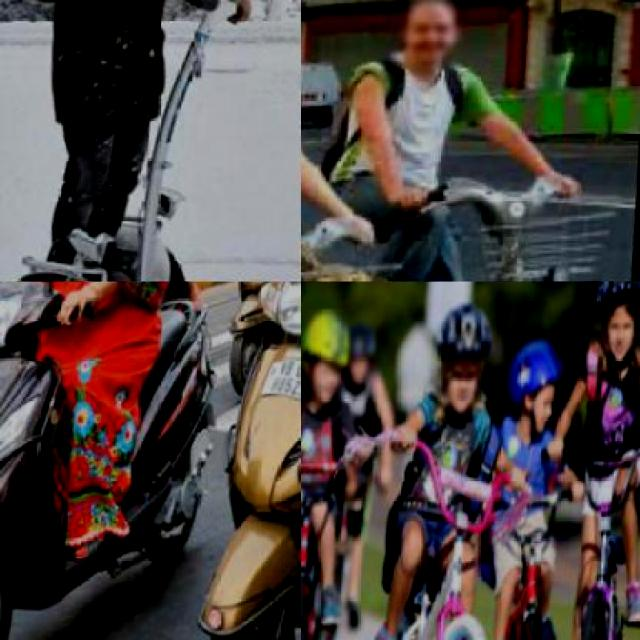With Helmet: (426, 287, 505, 419), (503, 327, 574, 439), (300, 303, 358, 412), (588, 282, 638, 362), (342, 314, 386, 386)
Without Helmet: (386, 0, 474, 69)
